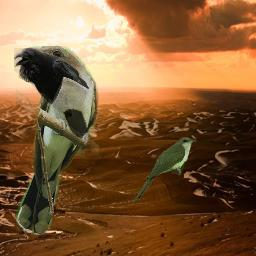Crow: (14, 48, 89, 140)
Cuckoo: (16, 46, 99, 235), (133, 137, 197, 203)
